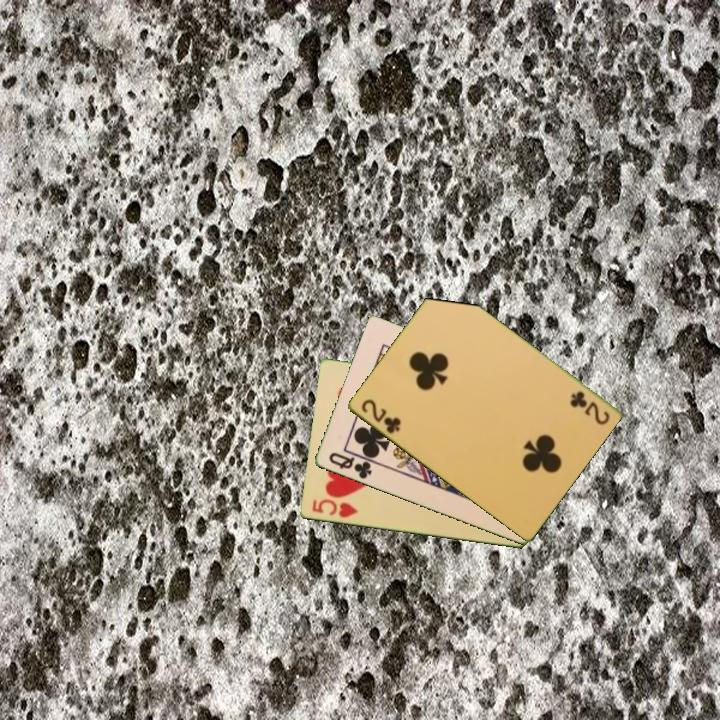2c: (357, 395, 403, 437), (566, 387, 612, 428)
5h: (308, 496, 361, 521)
Qc: (325, 449, 375, 482)
